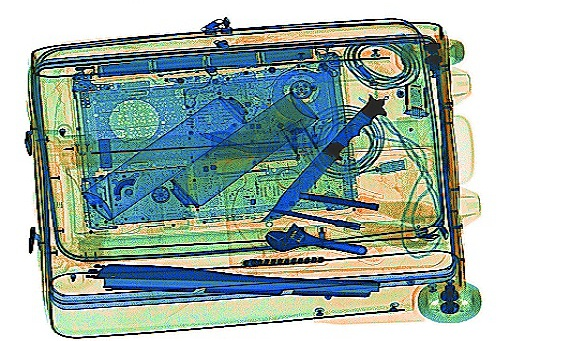knife: (254, 92, 389, 221)
pressure: (77, 93, 247, 219), (169, 87, 318, 208)
